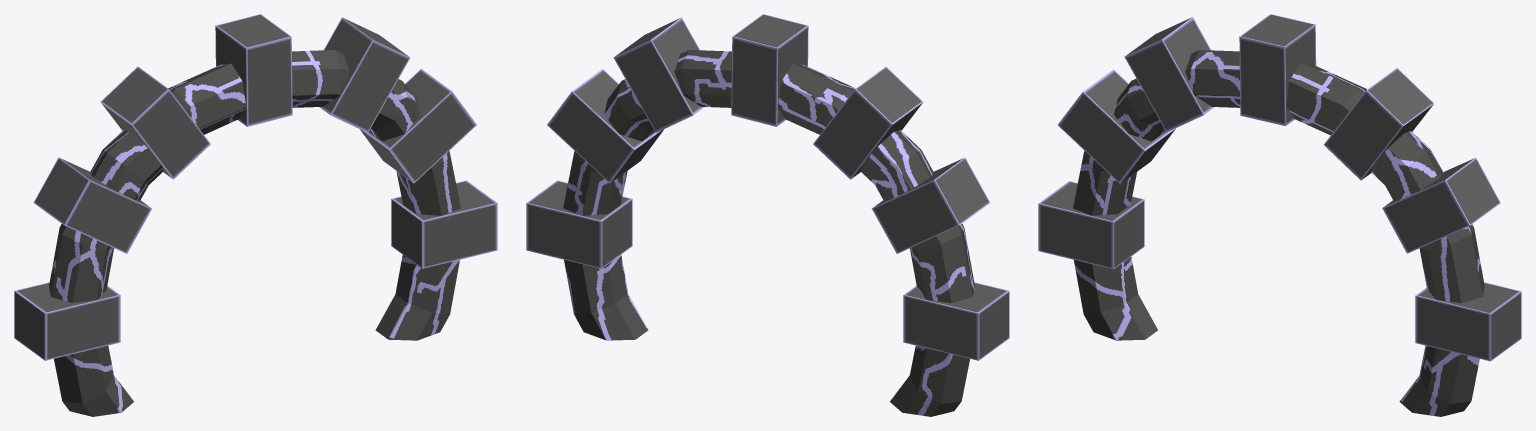
The model's file is Goal.fbx.
The picture shows the model from 3 angles, left to right: view 1: azimuth 30°, elevation 25°; view 2: azimuth 150°, elevation 25°; view 3: azimuth 330°, elevation 25°; orthographic projection.
Parts seen in each view (by area): view 1: Torus; view 2: Torus; view 3: Torus.
Boxes of the visible parts, bbox=[...] form: Torus: bbox=[14, 14, 497, 416]; Torus: bbox=[526, 14, 1009, 416]; Torus: bbox=[1038, 14, 1521, 416].
Size of the model in its own units: 48.44 by 34.32 by 5.75.
2 materials, 2 textured.
